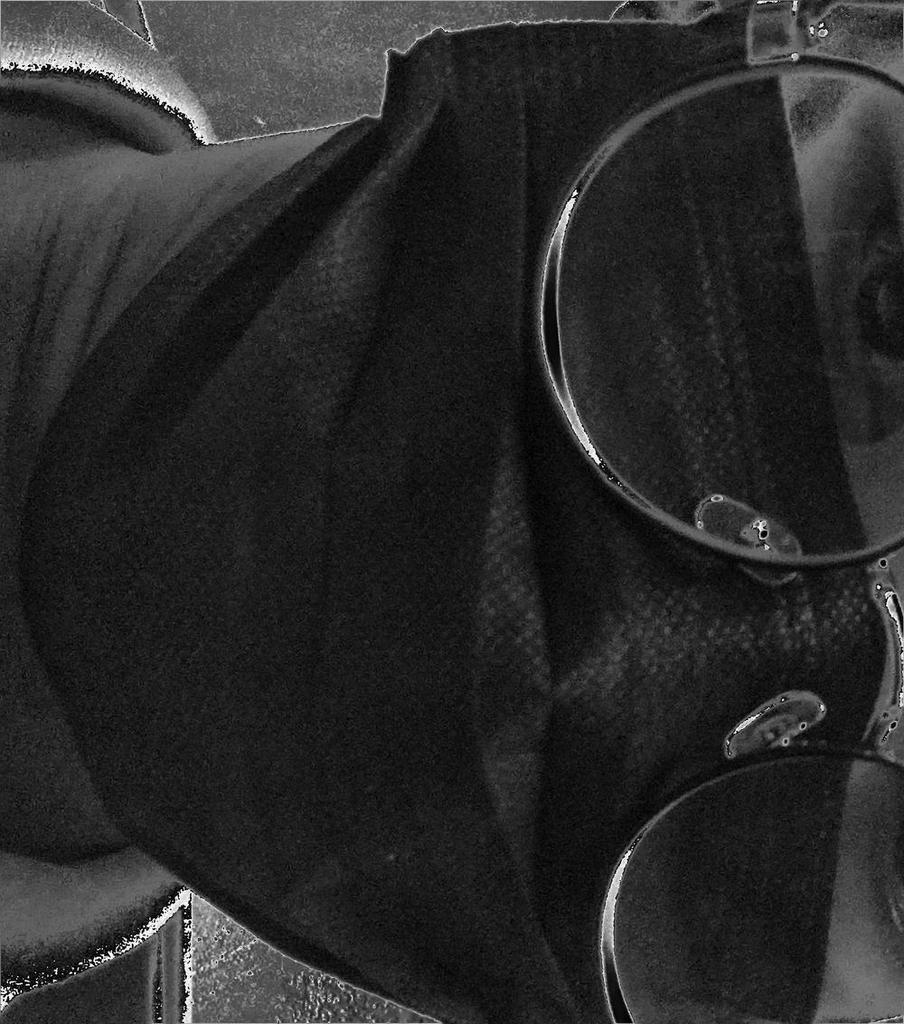Low GSM: (27, 10, 883, 1023)
